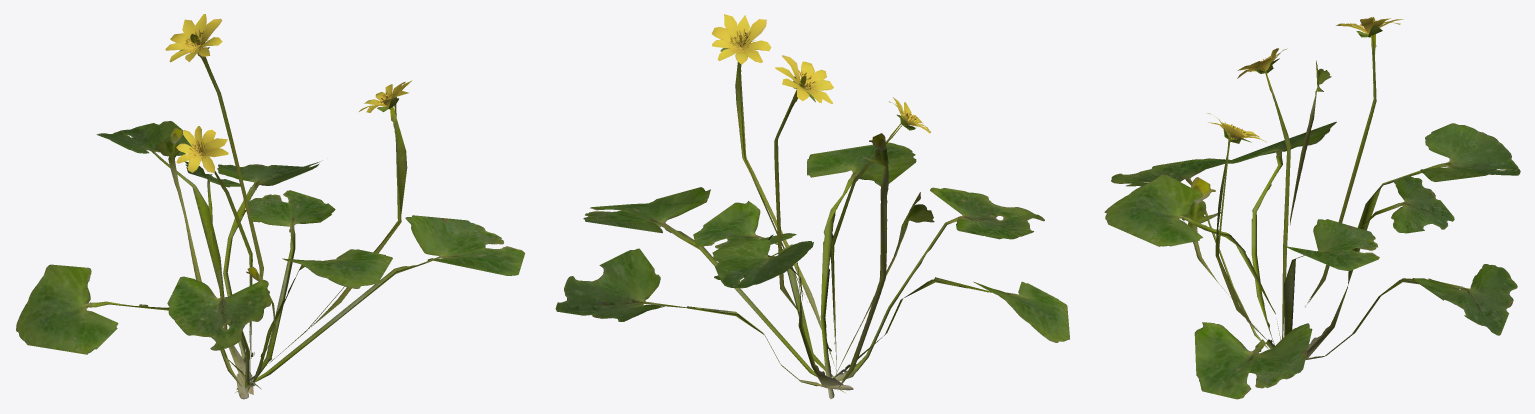
The picture shows the model from 3 angles, left to right: view 1: azimuth 30°, elevation 25°; view 2: azimuth 150°, elevation 25°; view 3: azimuth 270°, elevation 25°; orthographic projection. The views are drawn at different scales.
Parts seen in each view (by area): view 1: celandine_01__c_lod0; view 2: celandine_01__c_lod0; view 3: celandine_01__c_lod0.
Part boxes in pixels (x1,y1,x2,y2): celandine_01__c_lod0: [16, 14, 524, 399]; celandine_01__c_lod0: [555, 14, 1069, 398]; celandine_01__c_lod0: [1104, 17, 1520, 399].
Size of the model in its own units: 0.2624 by 0.1795 by 0.1912.
1 material, 1 textured.
